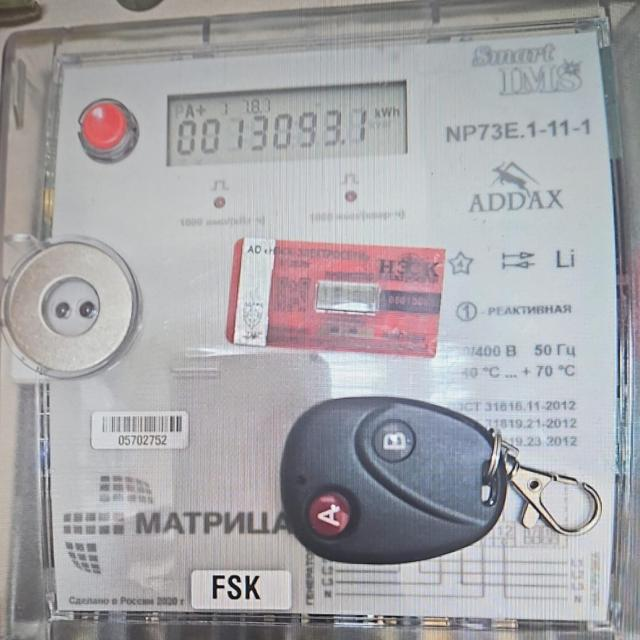Display: (167, 80, 408, 169)
meter_matrica: (43, 24, 619, 631)
meter_number: (92, 410, 191, 447)
seal_imp: (225, 237, 448, 358)
